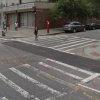Crosswalk: (8, 52, 91, 100)
